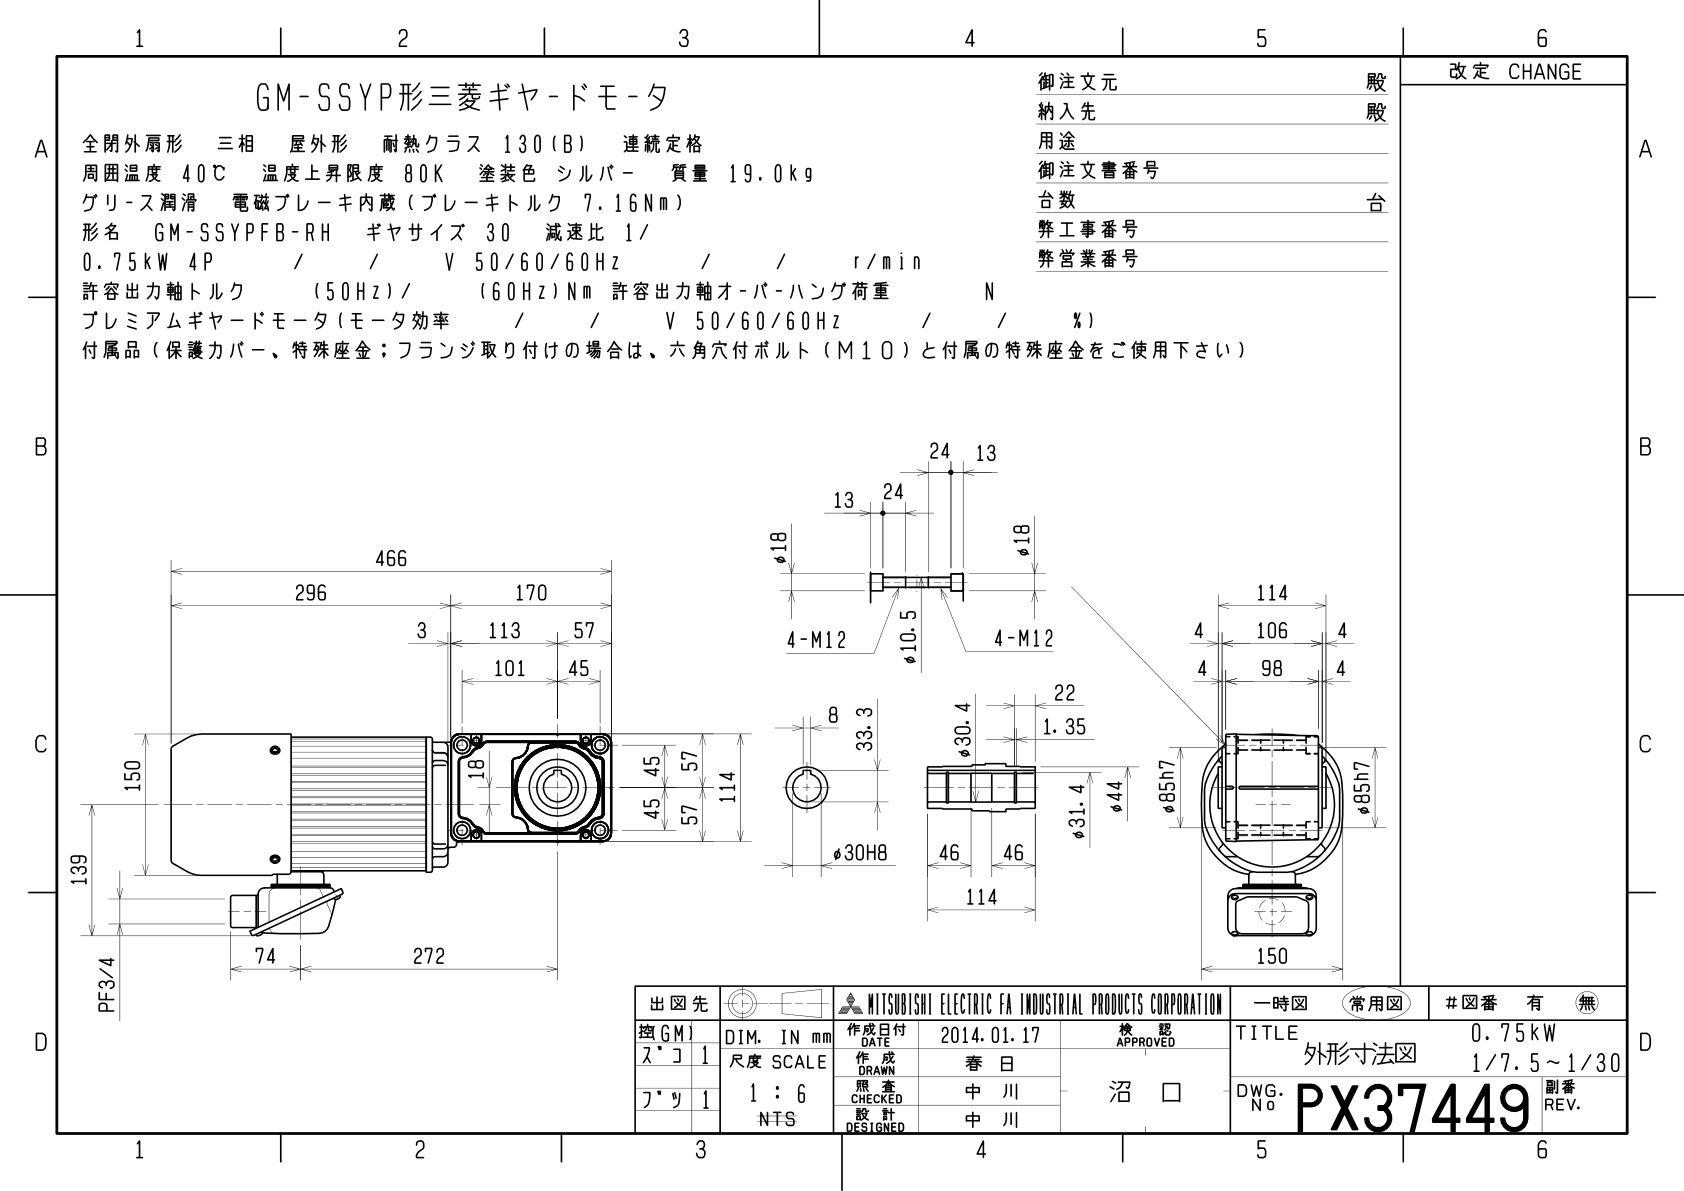GM_SSYP_屋外_三相: (63, 420, 1386, 978)
